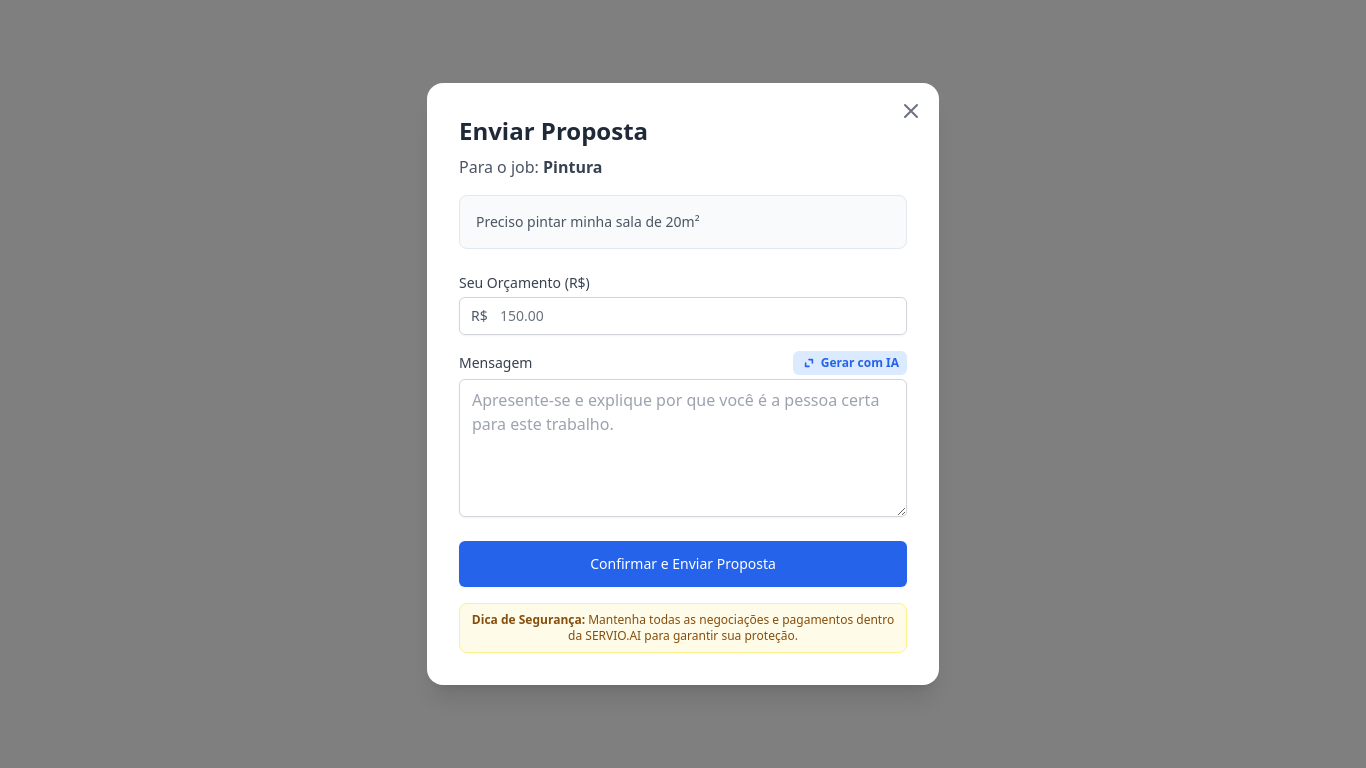
Scenario: ProposalModal › gera mensagem com IA quando botão é clicado
Note: Clica em gerar com IA
Click the button "Gerar com IA" at (850, 363), box [793,351,907,375]
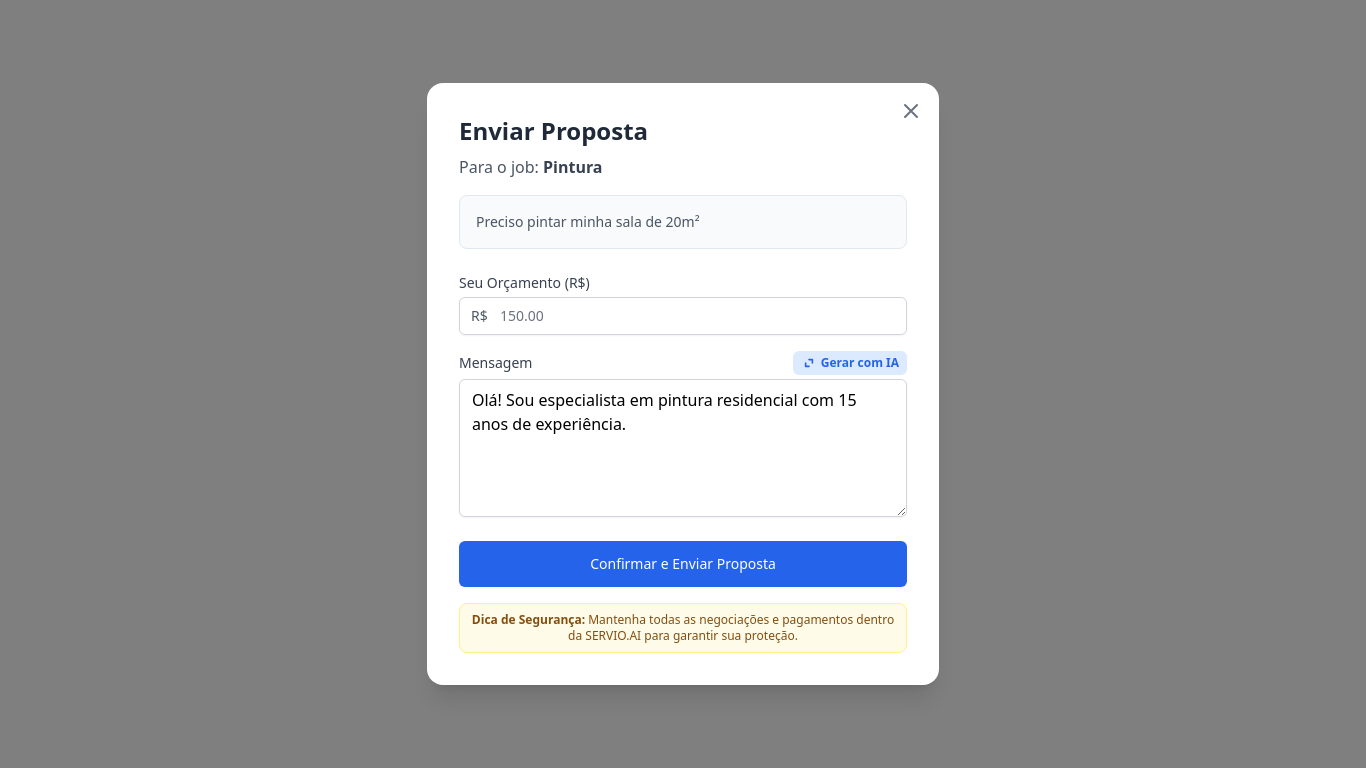
expect the text box labelled "Mensagem" holds "Olá! Sou especialista em pintura residencial com 15 anos de experiência.": met, box [459,379,907,517]
